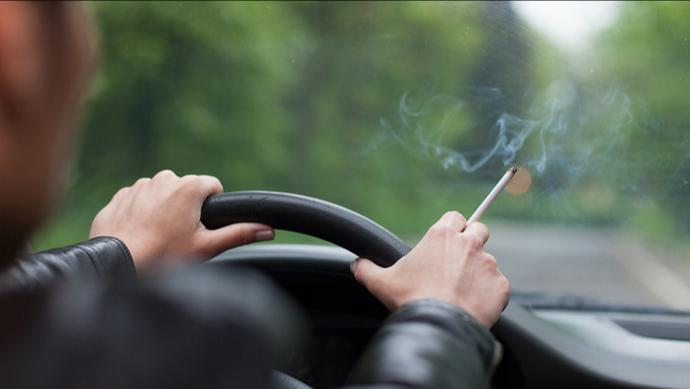Cigarette: (467, 166, 520, 220)
